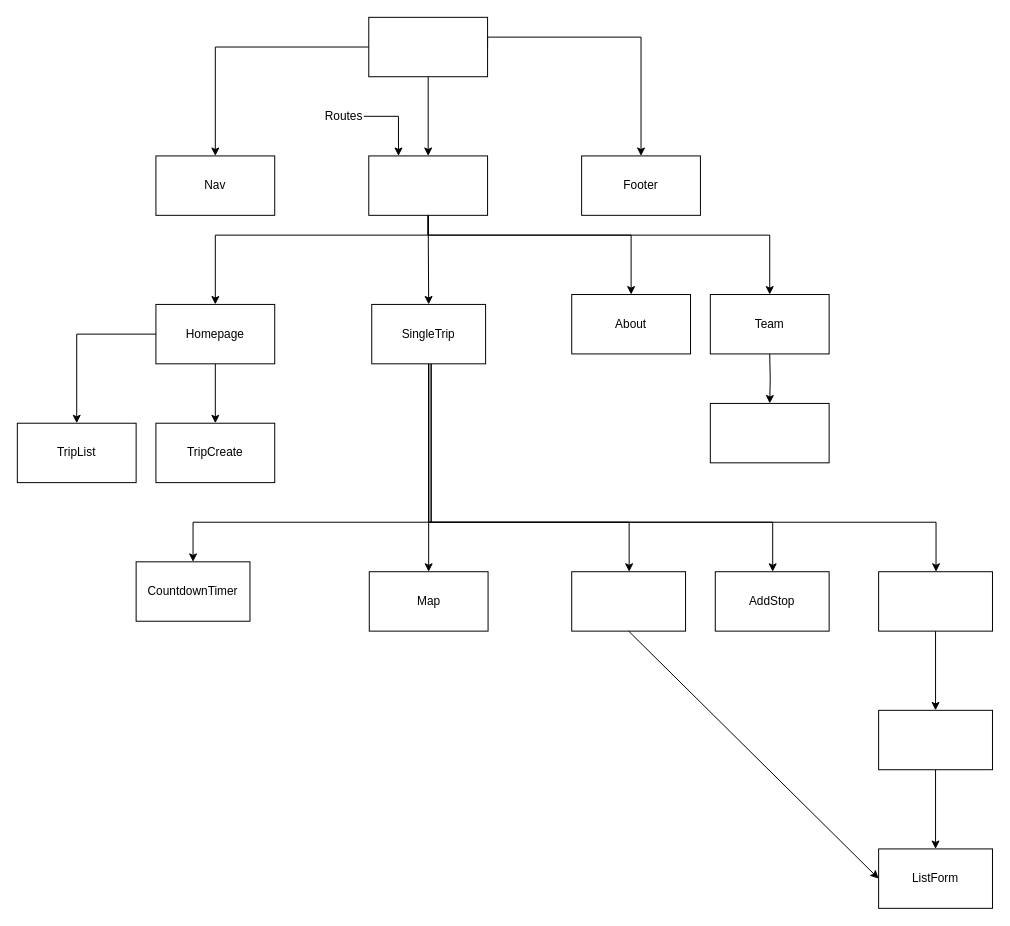
The diagram is 1010 pixels wide and 926 high, and some of its shapes have lost their labels. The box of each missing label's shape, as (x1, y1, x2, y2) in pixels:
App: (368, 16, 488, 77)
Main: (368, 155, 488, 215)
MemberCard: (709, 402, 829, 463)
PackingList: (571, 571, 686, 631)
StopDetails: (878, 709, 992, 770)
StopList: (878, 571, 992, 631)
